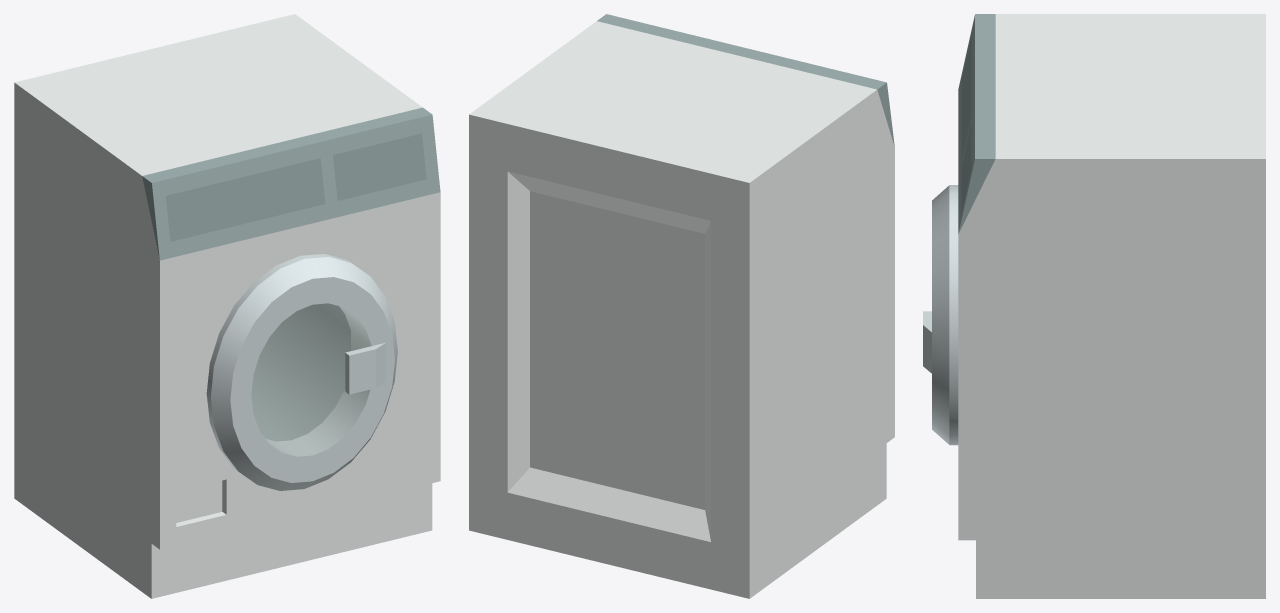
Rendered from washing-machine.glb.
3 renders of one model, left to right at view 1: azimuth 30°, elevation 25°; view 2: azimuth 150°, elevation 25°; view 3: azimuth 270°, elevation 25°, orthographic. The views are drawn at different scales.
Visible parts, largest first — view 1: washer(Clone), washerDoor; view 2: washer(Clone); view 3: washer(Clone).
Part boxes in pixels (bbox=[...]): washer(Clone): bbox=[14, 14, 440, 598]; washerDoor: bbox=[251, 303, 371, 456]; washer(Clone): bbox=[469, 14, 894, 598]; washer(Clone): bbox=[923, 14, 1265, 598].
Bounding box in the file's own units: 0.6 × 0.85 × 0.6.
2 materials, 2 textured.
